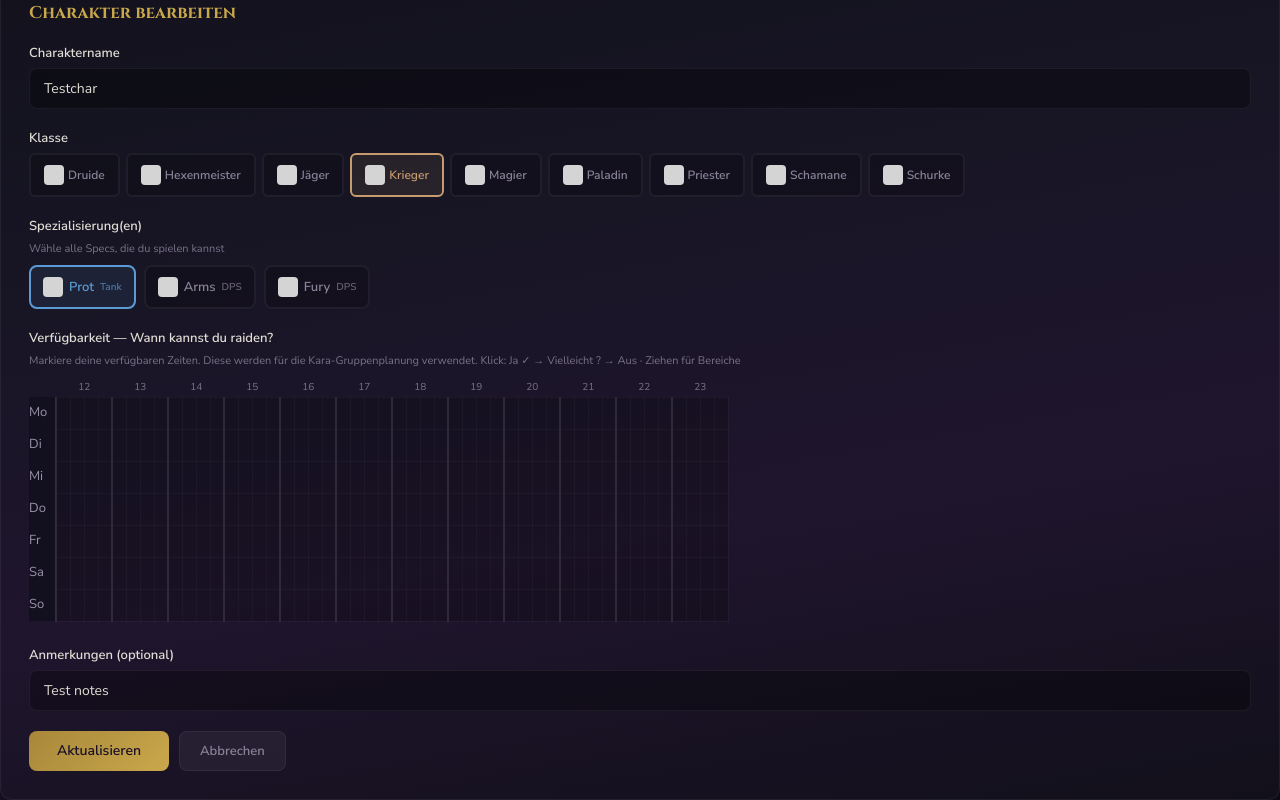
FormView › returns to cards view on cancel edit
(page scrolled)
Click the button with class "btn-s": x=232, y=750 [179,730,286,770]
(page scrolled)
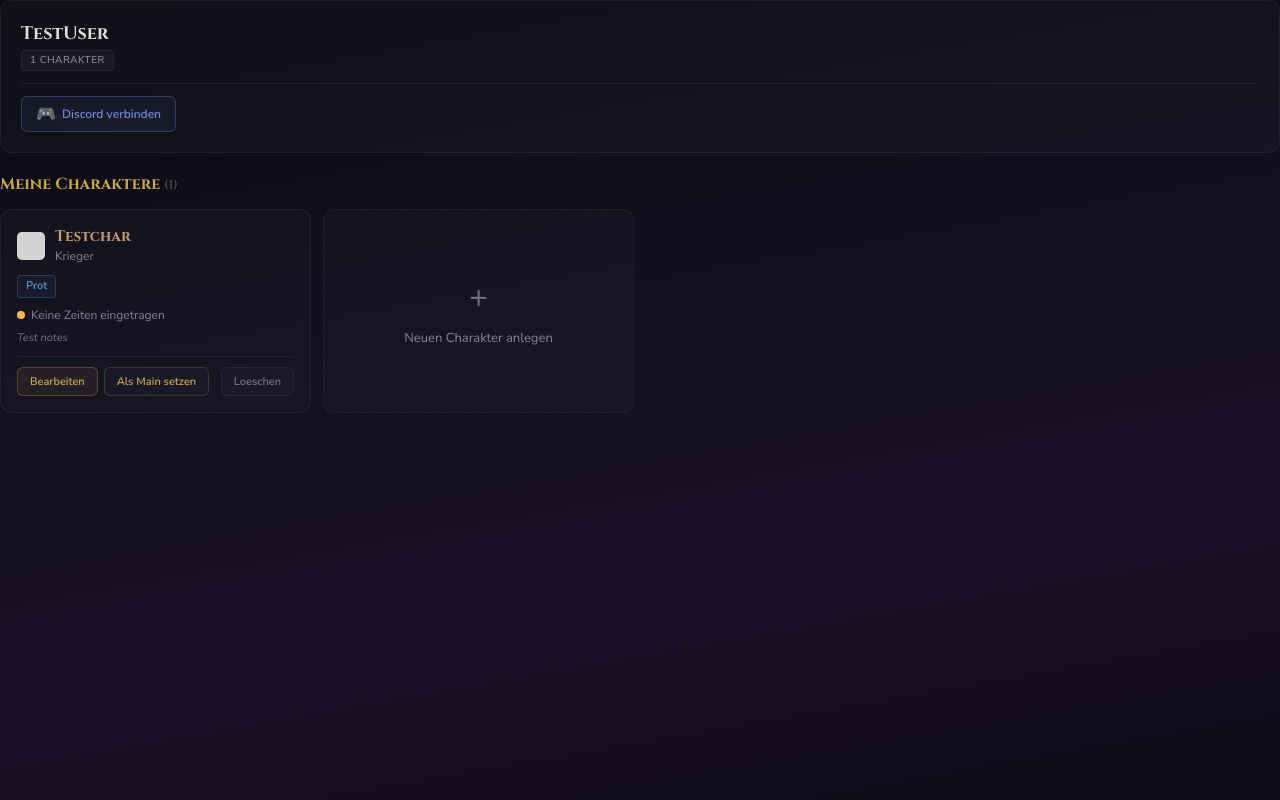
Now the element with class "char-card" that starts with "Testchar" is shown, box [0,209,311,413]
